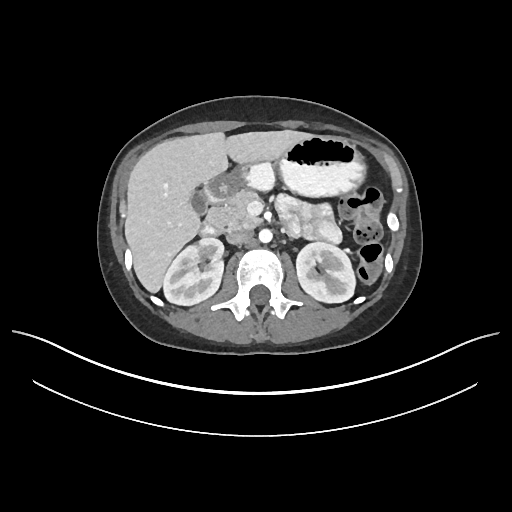Lesion: (188, 240, 202, 248)
